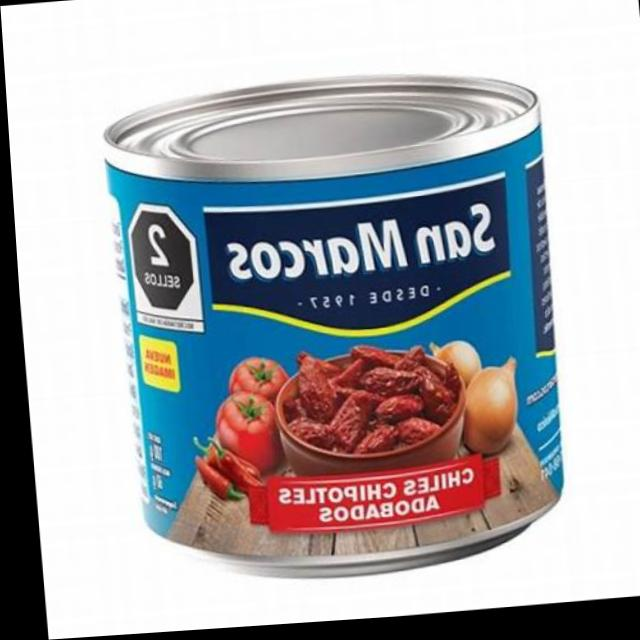Lata: (97, 56, 582, 588)
